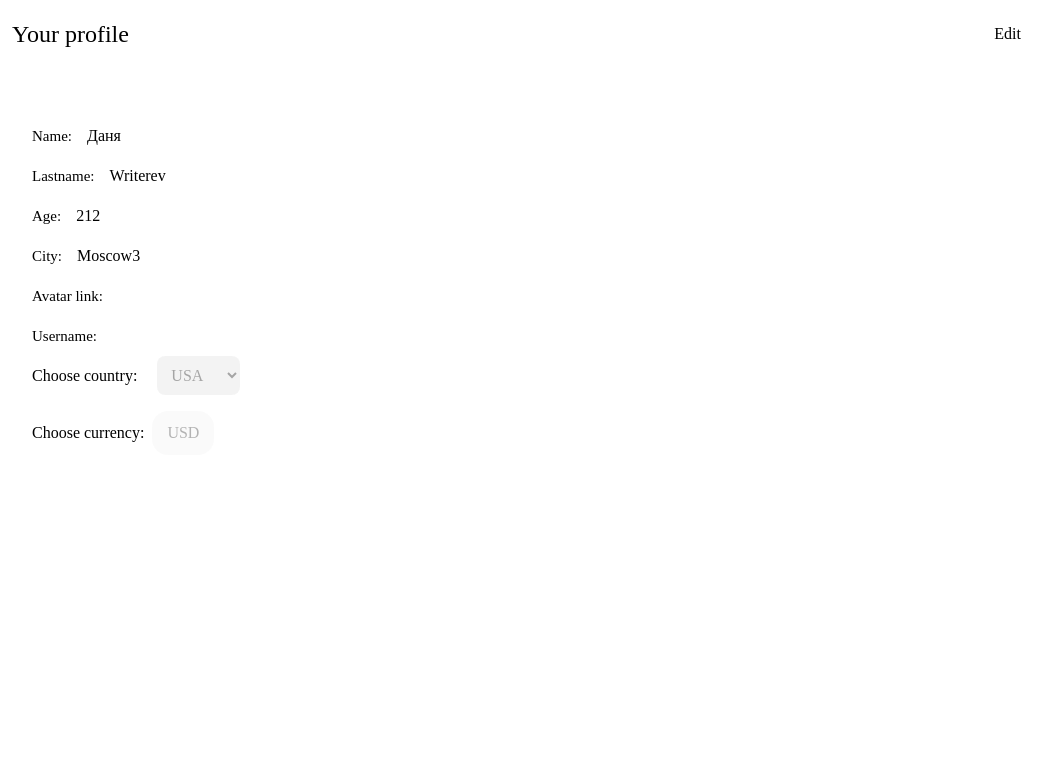
Scenario: EditableProfileCard.test › delete changed values when click to clear button
Click the button with test id "Button edit".
click(1008, 34)  # box [979, 12, 1036, 56]
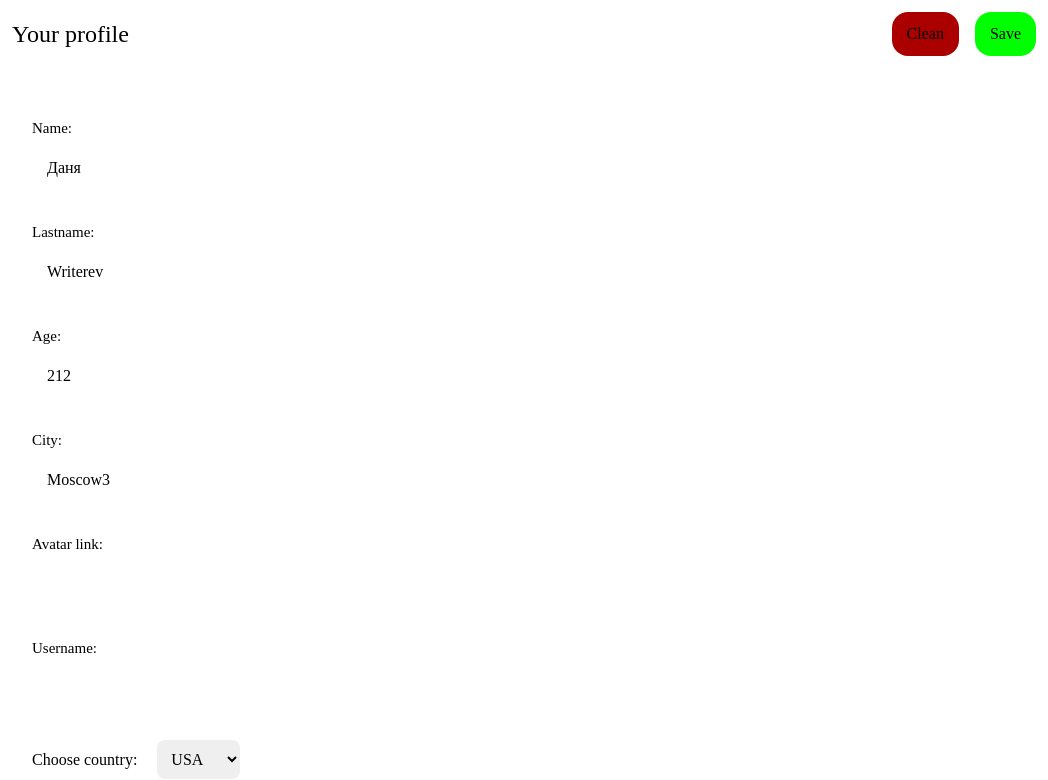
Now the button with test id "Button clear" is shown, box [892, 12, 959, 56]
Replace the text in the field with test id "name" with "Danila" at (524,168), box [32, 148, 1016, 188]
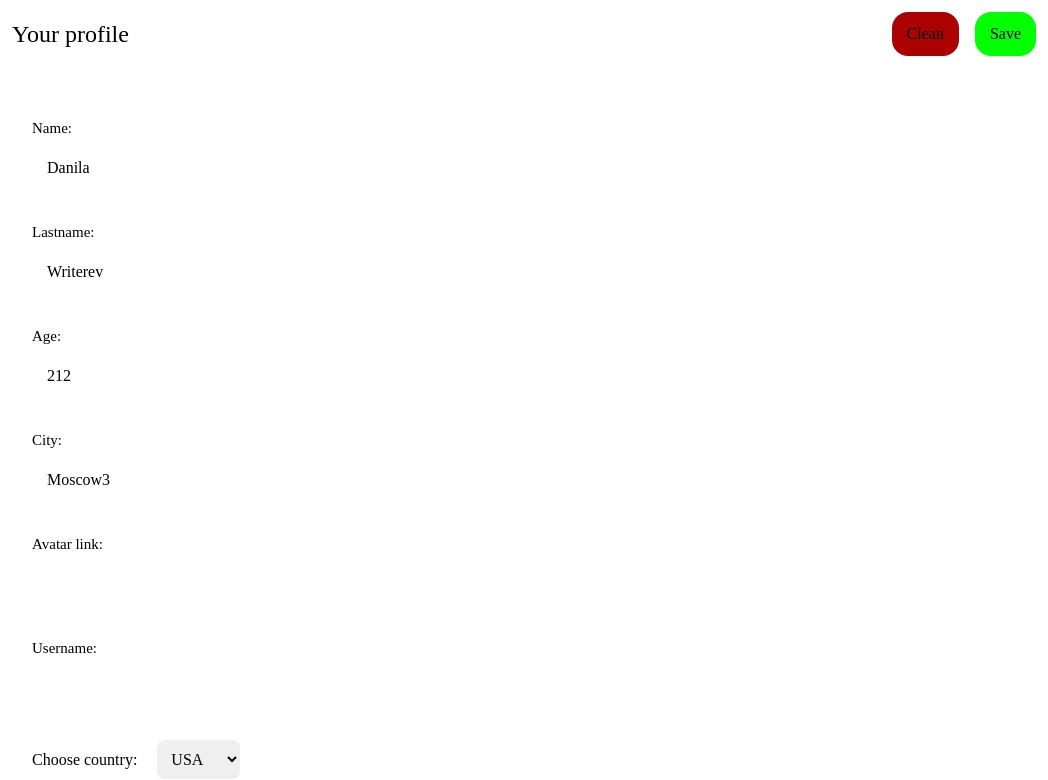
Replace the text in the field with test id "lastname" with "Pisarev" at (524,272), box [32, 252, 1016, 292]
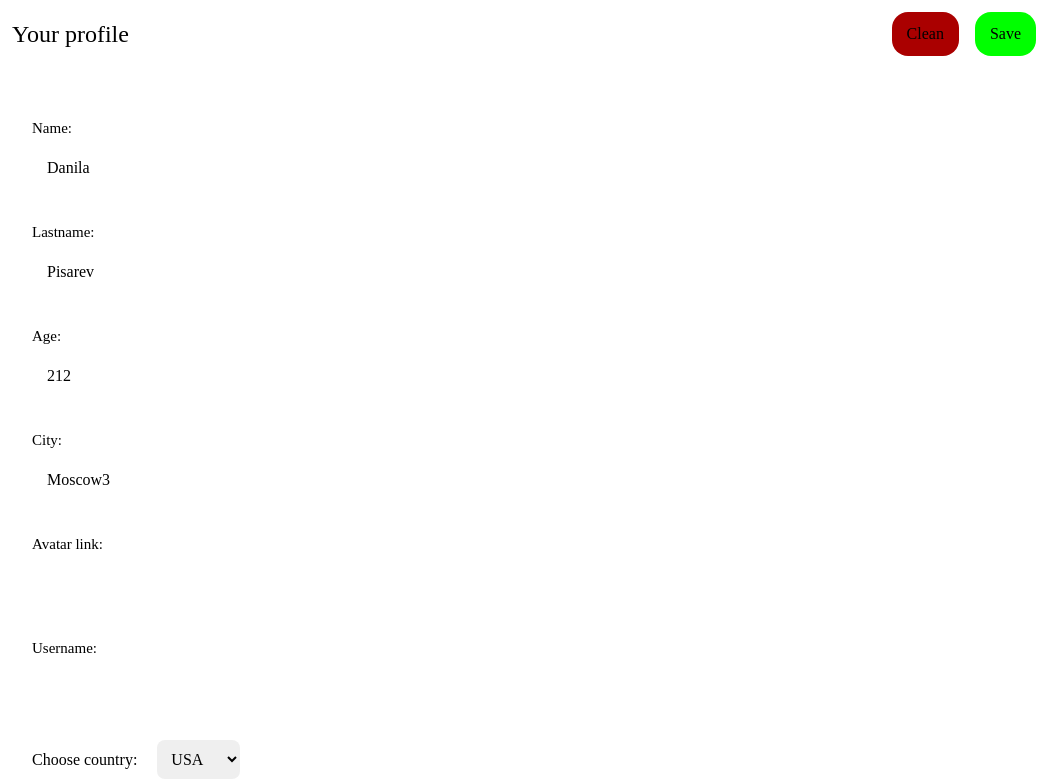
Click the button with test id "Button clear".
click(925, 34)  # box [892, 12, 959, 56]
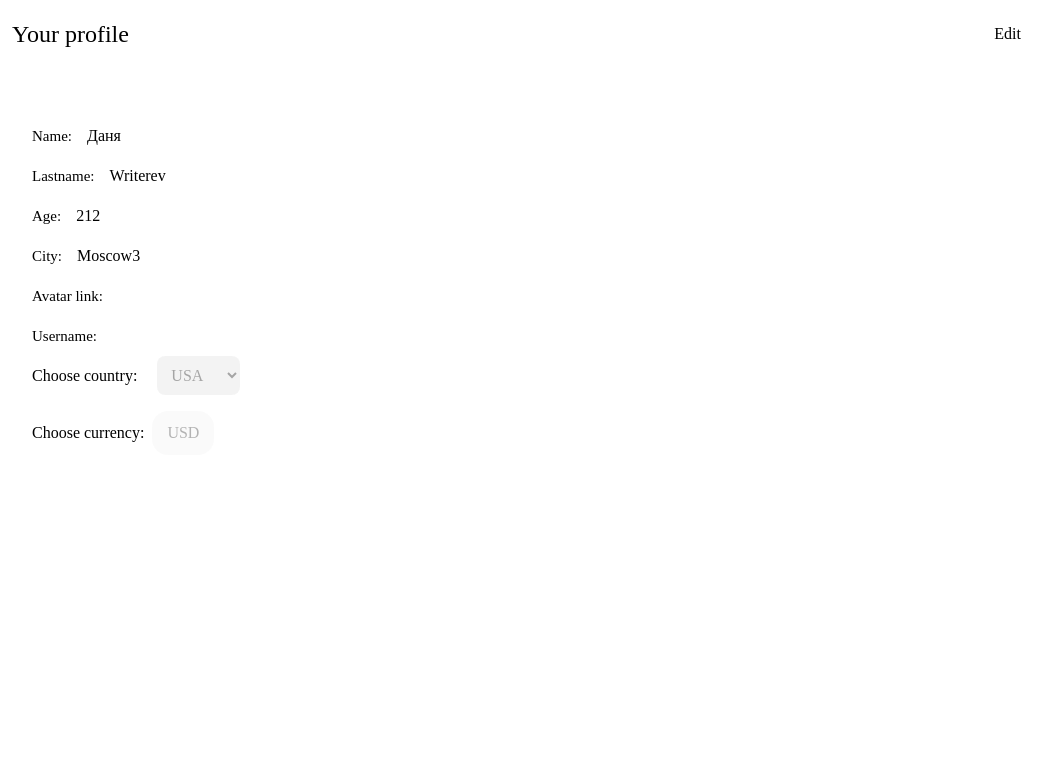
Now the field with test id "name" holds "Даня", box [72, 116, 302, 156]
Now the field with test id "lastname" holds "Writerev", box [94, 156, 324, 196]
Now the button with test id "Button edit" is shown, box [979, 12, 1036, 56]
